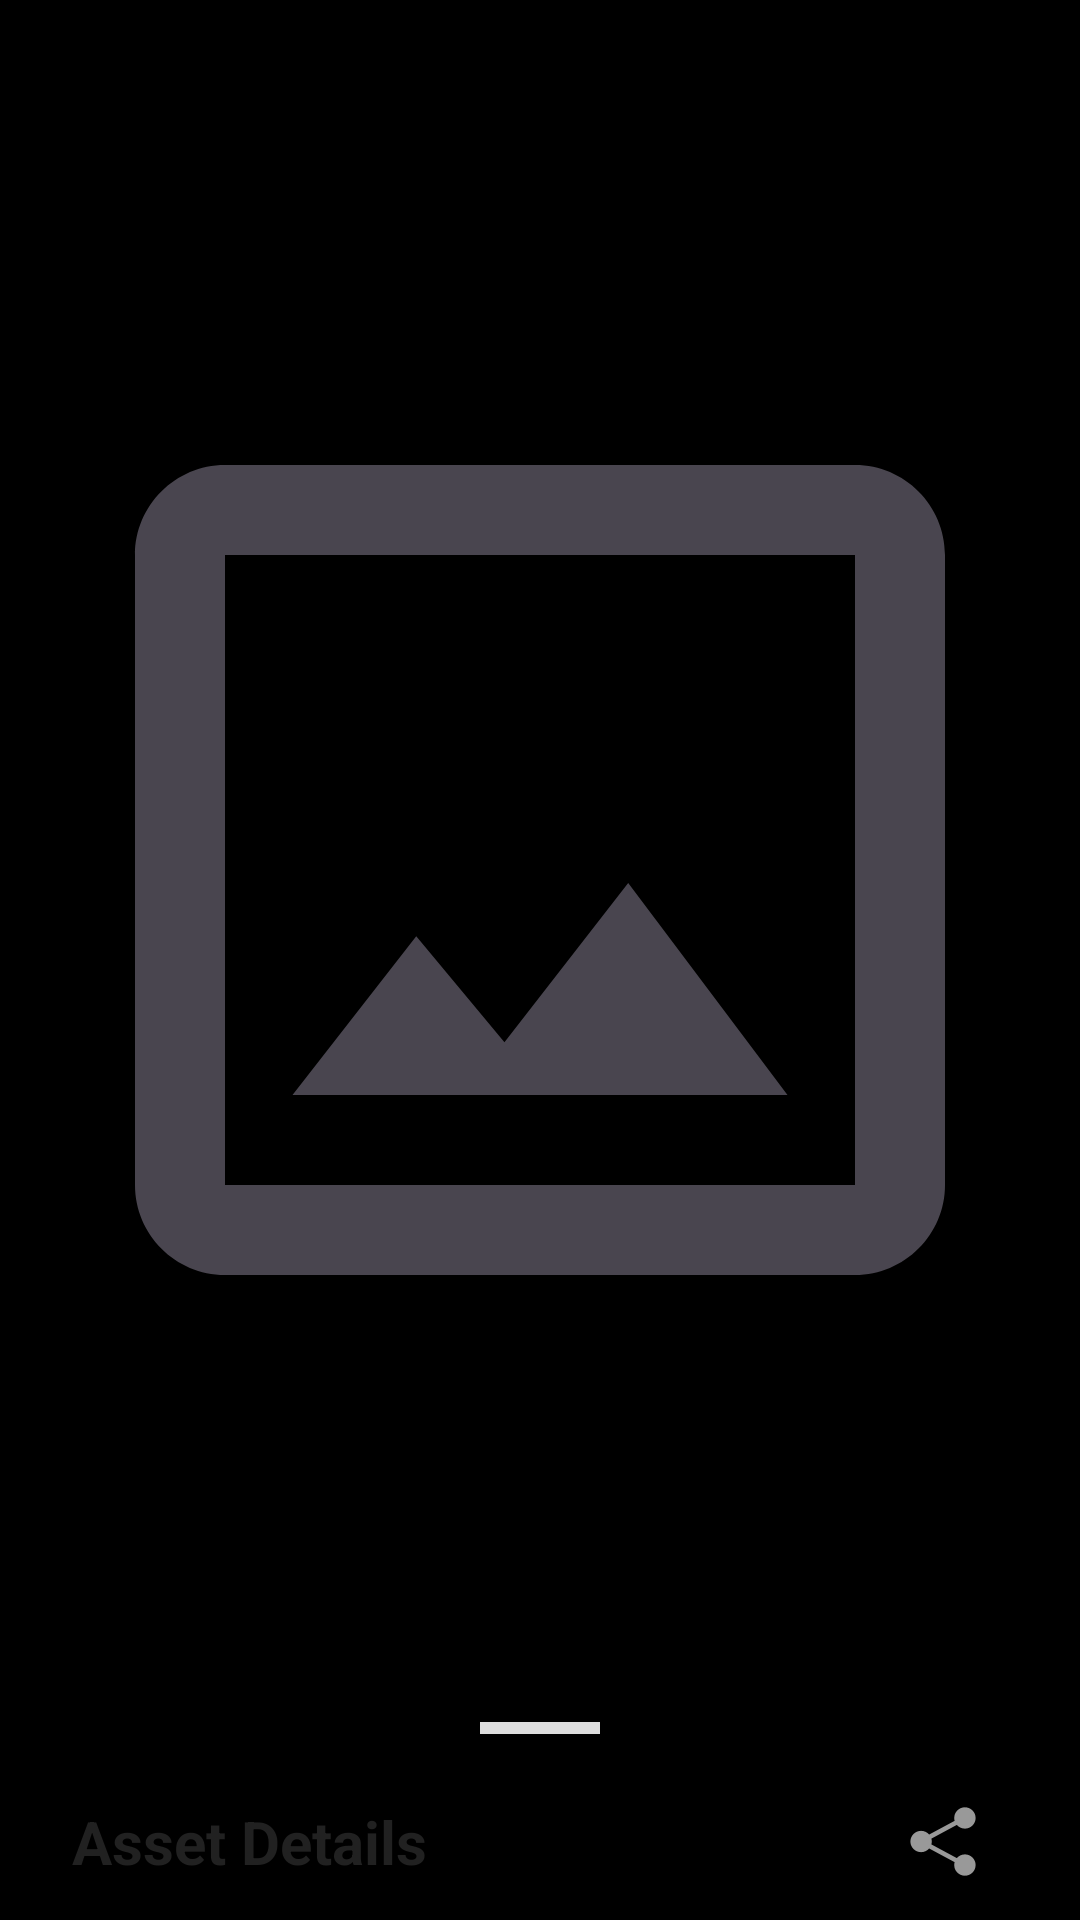

Screen size 1080 x 1920. Icon name, then its box in pixels as (x1, y1, x2, y2):
share: (910, 1807, 976, 1876)
